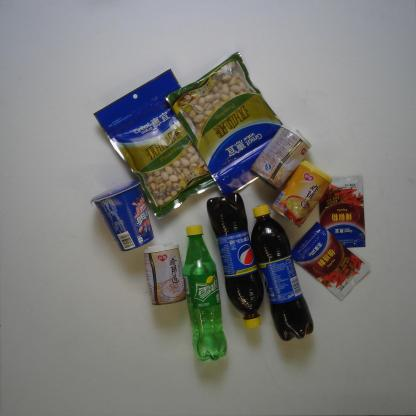Canned Food: (268, 159, 332, 228), (250, 125, 310, 190), (141, 241, 190, 308)
Dessert: (91, 179, 154, 253)
Dried Fruit: (90, 68, 218, 218), (163, 49, 285, 197)
Drink: (249, 204, 315, 341), (206, 191, 264, 328), (181, 223, 228, 363)
Seasoner: (291, 220, 371, 302), (317, 174, 367, 250)
